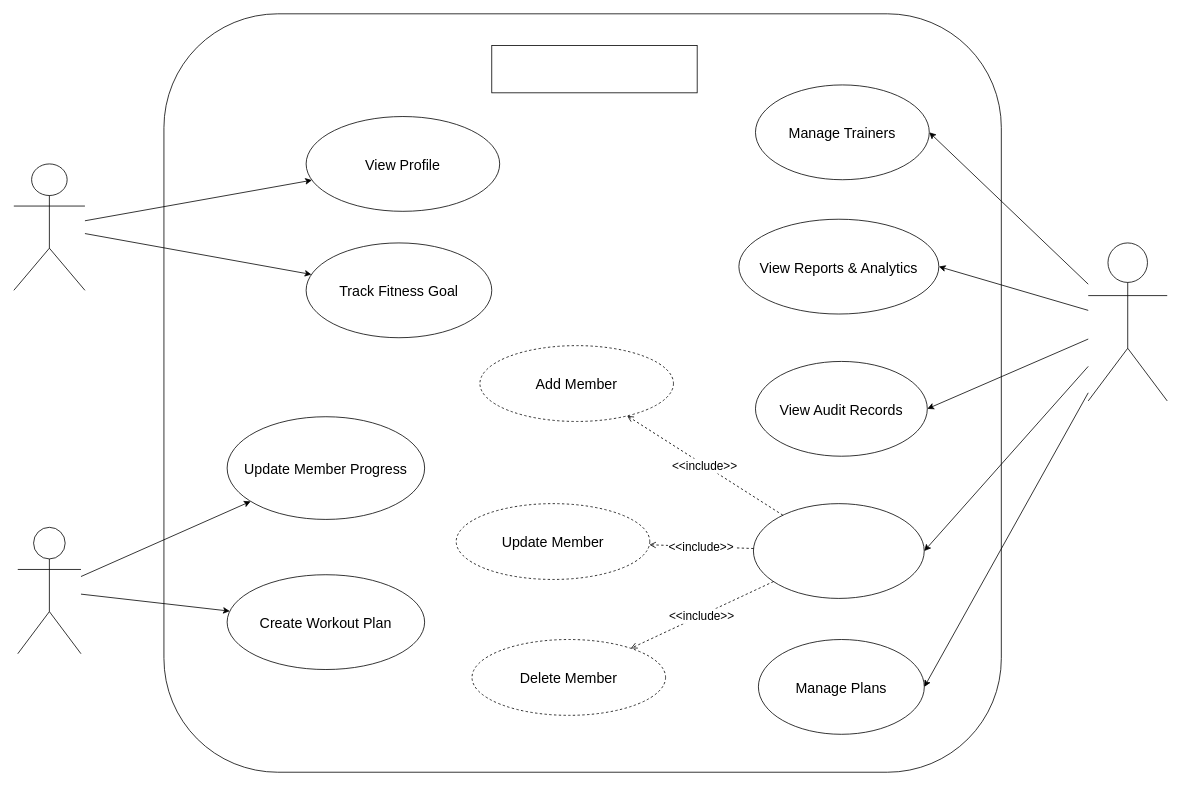
The diagram is 1181 pixels wide and 786 high, and some of its shapes have lost their labels. Each missing label, with the centre of its shape:
Admin: pixel 1127 321
GYM MANAGEMENT SYSTEM: pixel 594 69
Manage Members: pixel 838 550
Member: pixel 49 226
Trainer: pixel 49 590
